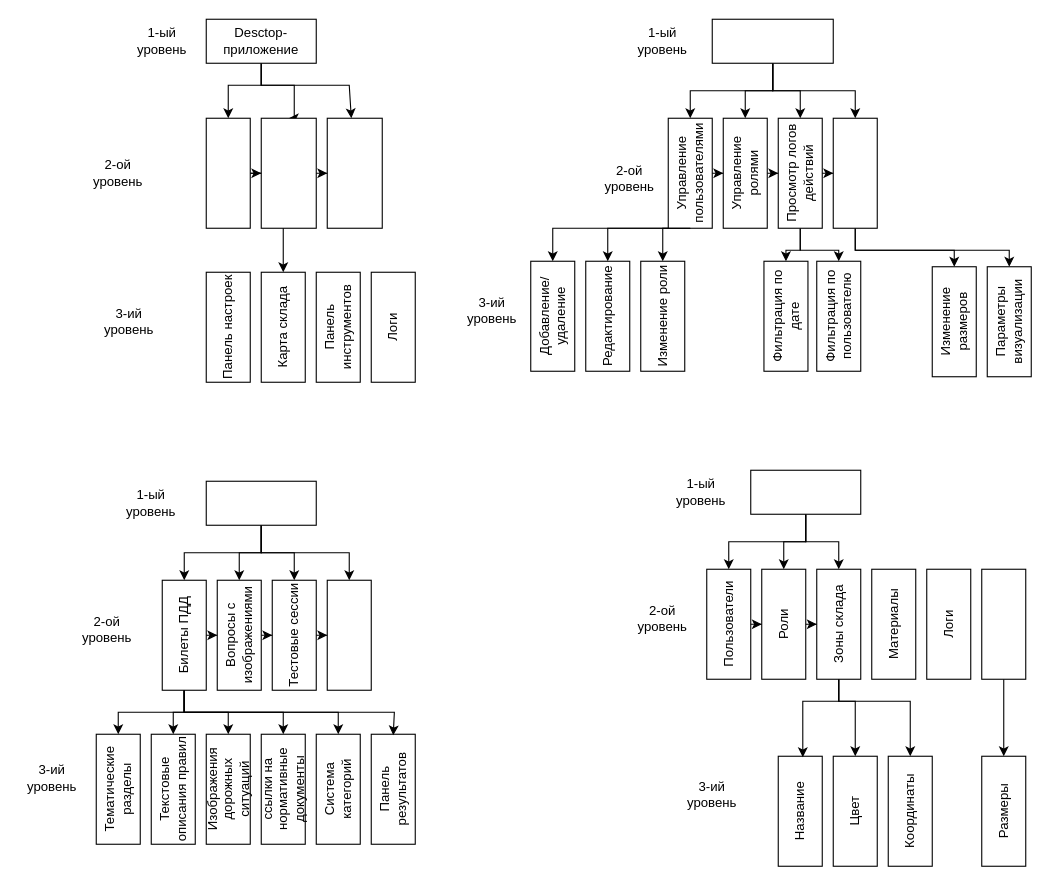
Some shapes in this 1051 by 886 pixel diagram are drawn without their labels. Each missing label, with the centre of its shape:
"Административный модуль" goes at (x=772, y=40).
"База данных" goes at (x=805, y=491).
"Главное окно" goes at (x=288, y=172).
"Настройка склада" goes at (x=854, y=172).
"Настройки склада" goes at (x=1003, y=623).
"Окно авторизации" goes at (x=227, y=172).
"Окно редактирование материалов" goes at (x=354, y=172).
"Прогресс обучения" goes at (x=348, y=634).
"Система обучения" goes at (x=260, y=502).
